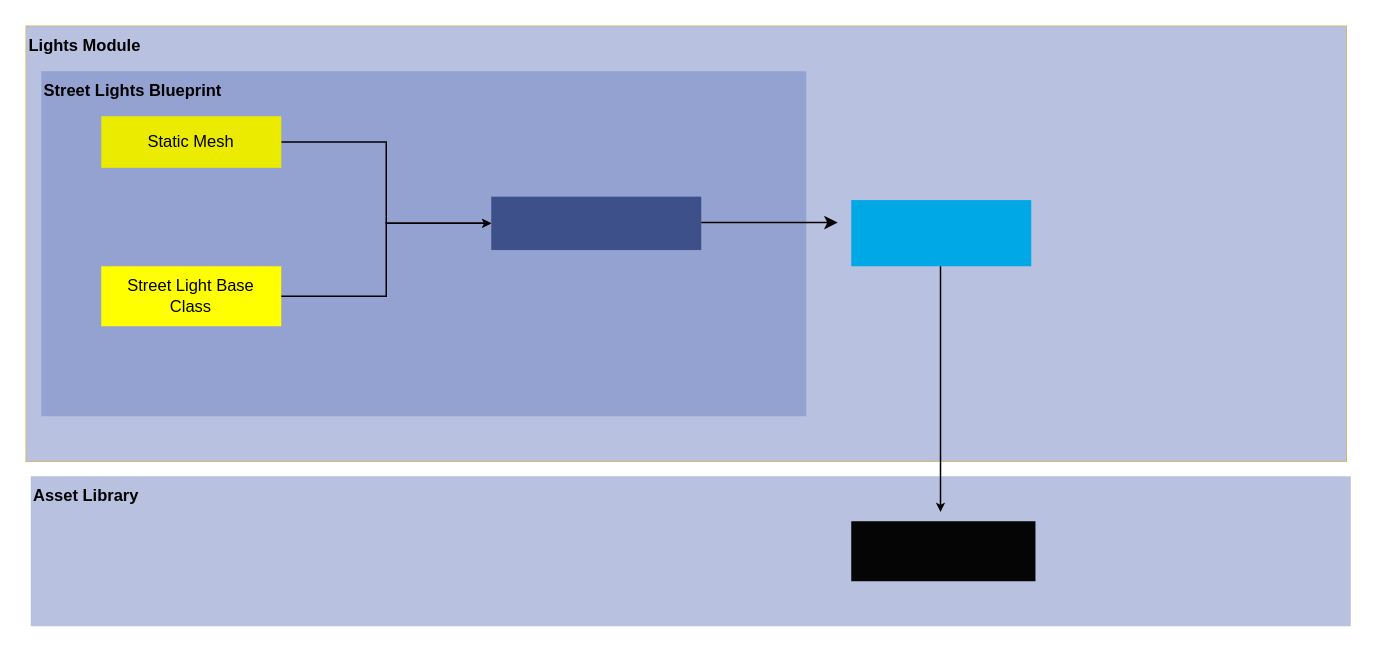
This 1377x653 diagram has some shape labels left out. Here are the shapes that lost their labels. From the top down, the centre of each, then its label:
At pixel 595 222: "Street Light Blueprint".
At pixel 940 232: "Working Street Light BPs".
At pixel 942 550: "Blueprint saved in Asset Library".
